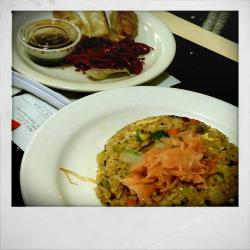omelette: (82, 107, 236, 204)
